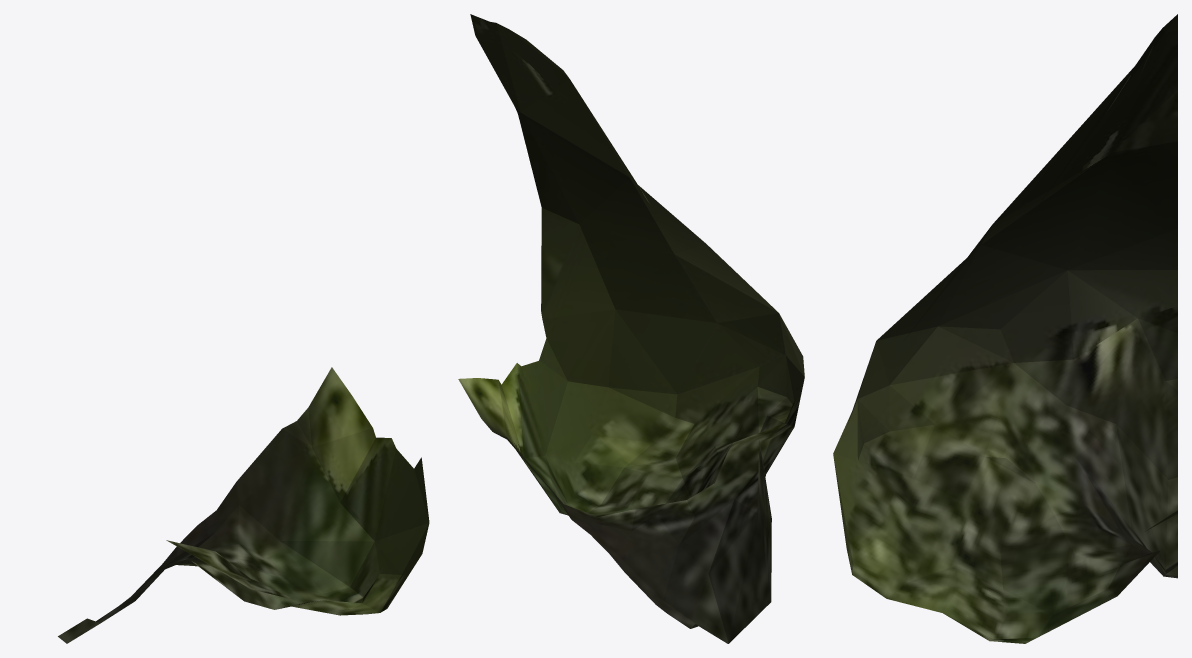
3 views of the same model, side by side, from view 1: azimuth 30°, elevation 25°; view 2: azimuth 150°, elevation 25°; view 3: azimuth 270°, elevation 25° (orthographic). The views are drawn at different scales.
Bounding box in the file's own units: 1.45 × 2.49 × 1.16.
1 material, 1 textured.
